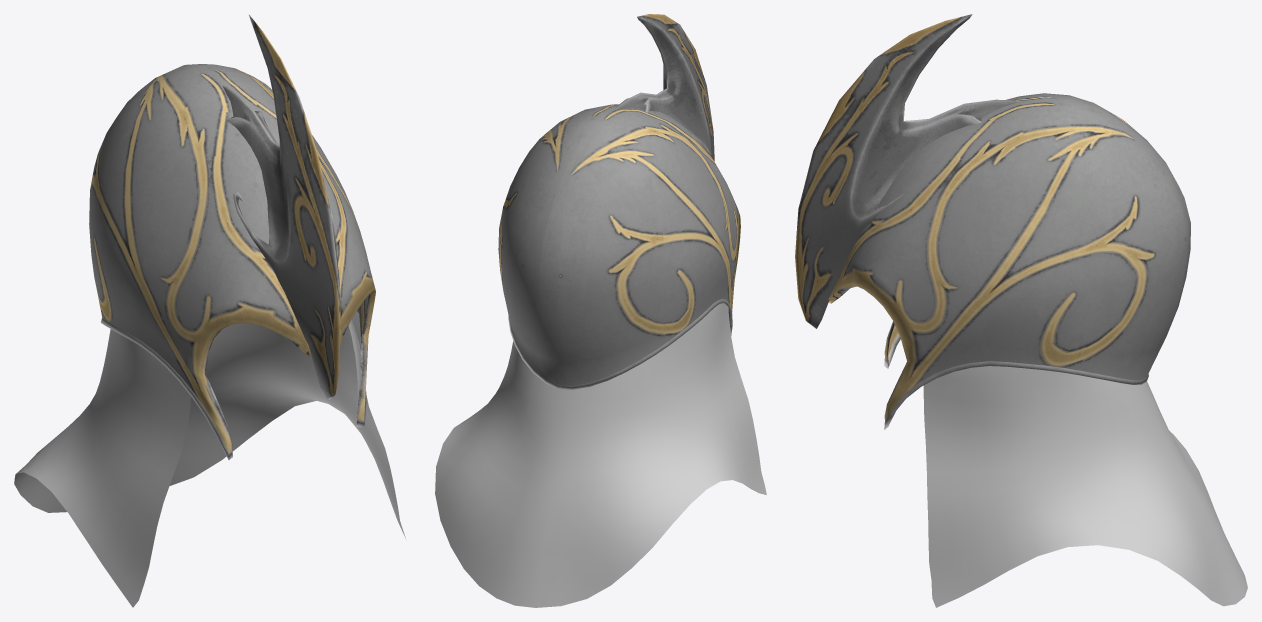
File: rivendell_helmet_archer_tier2_silvergold.fbx
The picture shows the model from 3 angles, left to right: view 1: azimuth 30°, elevation 25°; view 2: azimuth 150°, elevation 25°; view 3: azimuth 270°, elevation 25°; orthographic projection. The views are drawn at different scales.
Visible parts, largest first — view 1: rivendell_helmet_archer_tier2_silvergold.1, rivendell_helmet_archer_tier2_silvergold.2, rivendell_helmet_archer_tier2_silvergold.0; view 2: rivendell_helmet_archer_tier2_silvergold.2, rivendell_helmet_archer_tier2_silvergold.1, rivendell_helmet_archer_tier2_silvergold.0; view 3: rivendell_helmet_archer_tier2_silvergold.1, rivendell_helmet_archer_tier2_silvergold.2, rivendell_helmet_archer_tier2_silvergold.0.
Part boxes in pixels (x1,y1,x2,y2): rivendell_helmet_archer_tier2_silvergold.1: (89,64,375,459); rivendell_helmet_archer_tier2_silvergold.2: (14,311,405,607); rivendell_helmet_archer_tier2_silvergold.0: (222,15,340,399); rivendell_helmet_archer_tier2_silvergold.2: (435,303,766,607); rivendell_helmet_archer_tier2_silvergold.1: (498,104,740,389); rivendell_helmet_archer_tier2_silvergold.0: (615,14,714,161); rivendell_helmet_archer_tier2_silvergold.1: (828,93,1190,429); rivendell_helmet_archer_tier2_silvergold.2: (923,366,1247,607); rivendell_helmet_archer_tier2_silvergold.0: (795,14,1022,328).
Size of the model in its own units: 0.2542 by 0.3438 by 0.4796.
